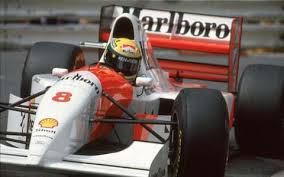FormulaOneCar: (1, 3, 284, 176)
